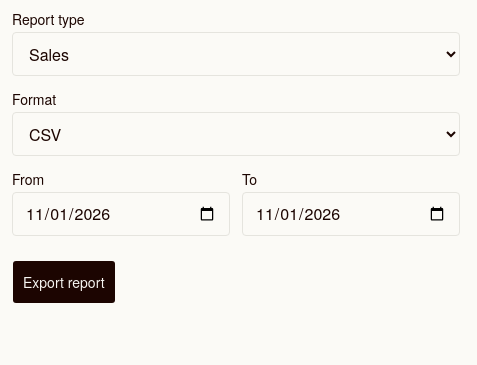
it: ReportExportForm › shows confirmation message after successful export
Select "Sales" in the dropdown labelled "Report type": (236, 54) [12,32,460,76]
Select "CSV" in the dropdown labelled "Format": (236, 134) [12,112,460,156]
In the date field labelled "From": (121, 214) [12,192,230,236], type "2026-06-01"
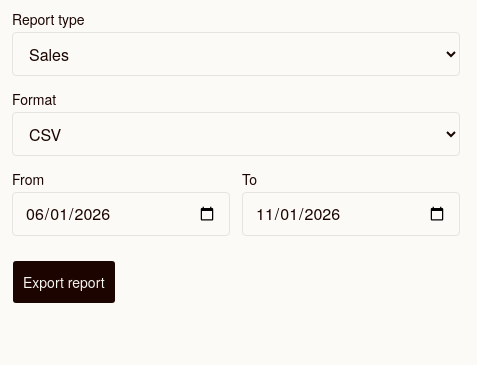
In the date field labelled "To": (351, 214) [242,192,460,236], type "2026-06-15"
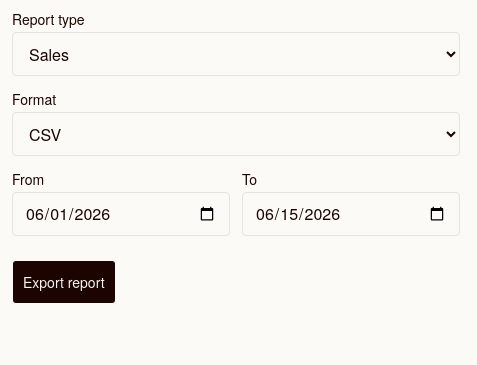
Click the button "Export report": click(64, 282) [12,260,116,304]
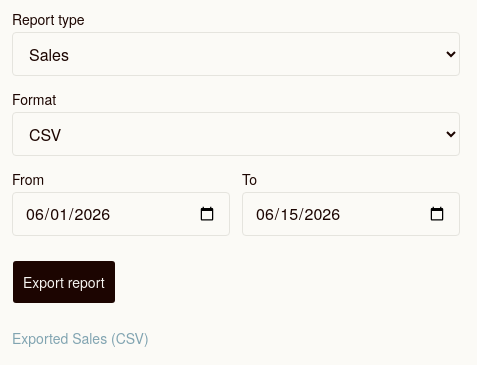
Check: the message with test id "export-confirmation" reads "Exported Sales (CSV)", box [12,328,149,348]
